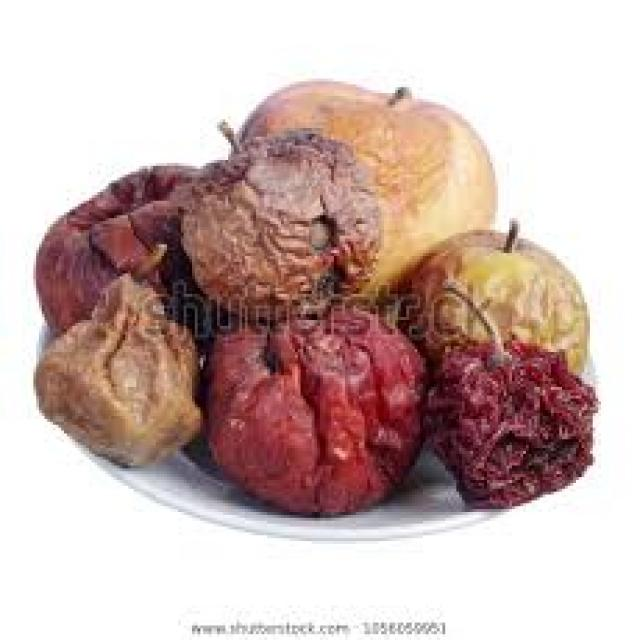organic waste: (228, 75, 498, 302), (200, 297, 428, 512), (178, 116, 381, 320), (420, 276, 596, 509), (31, 242, 203, 468), (398, 215, 587, 372), (31, 163, 198, 337)
